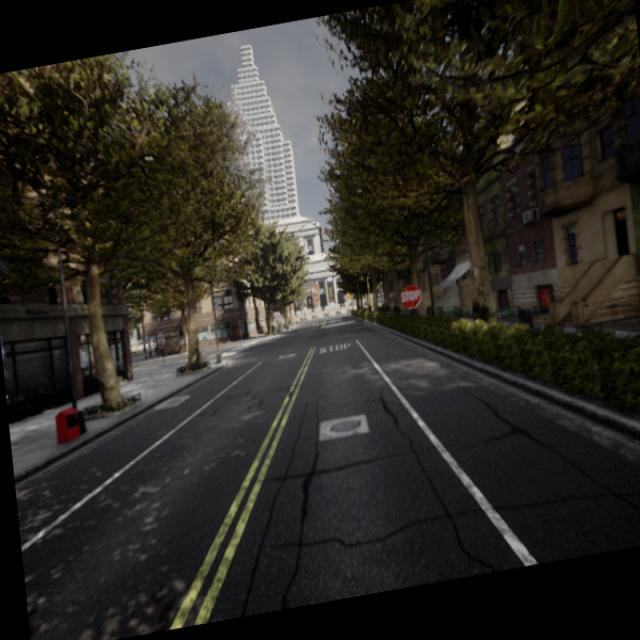stop sign: (398, 280, 423, 312)
